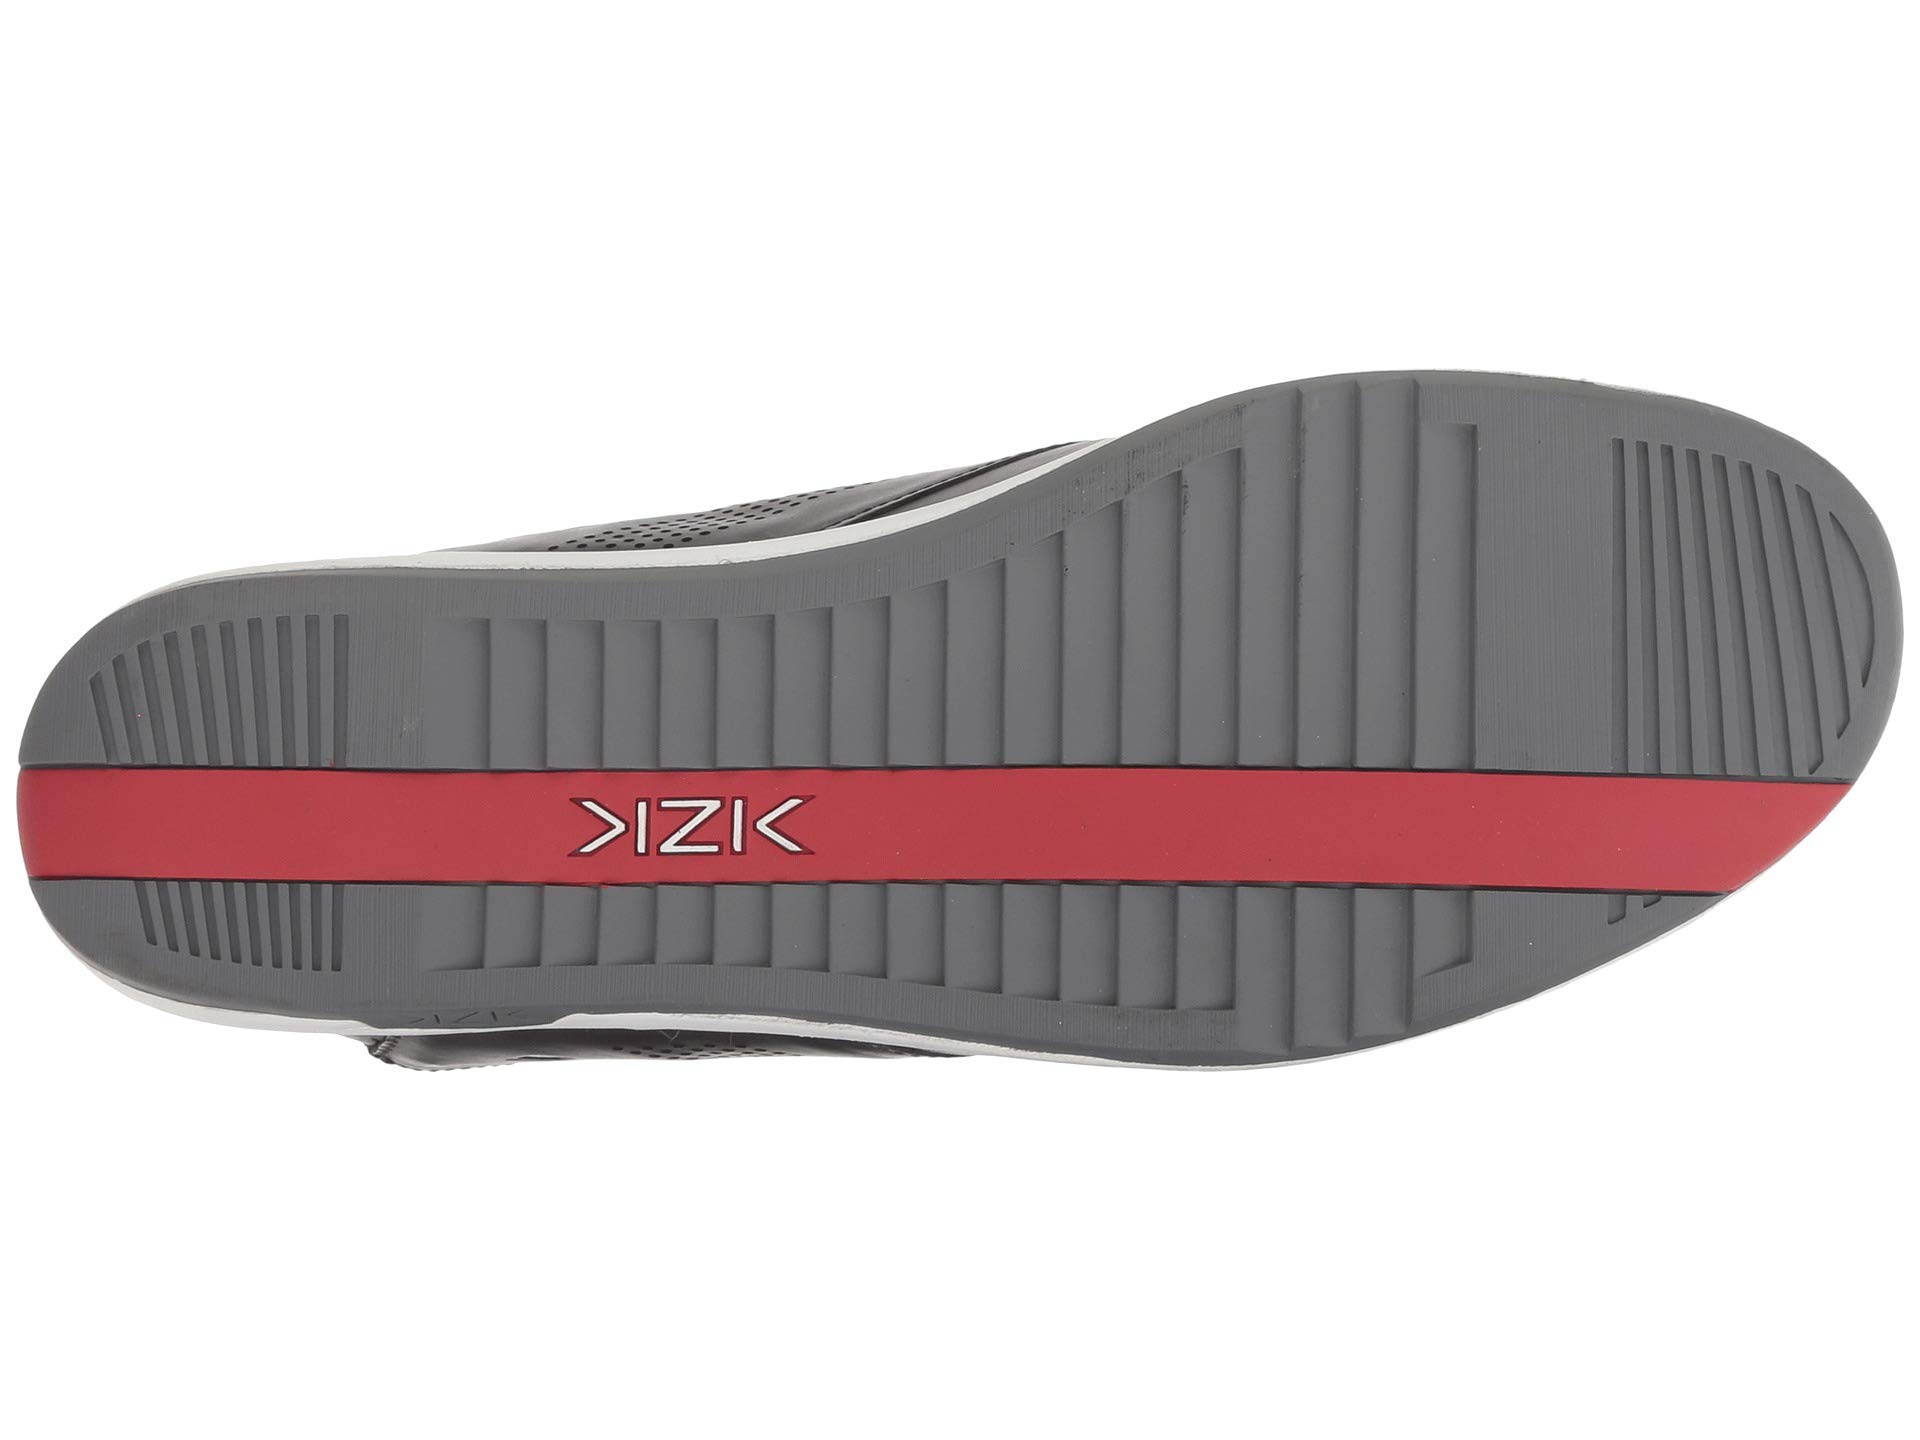quad: (407, 585, 1045, 771), (1590, 414, 1743, 790), (943, 871, 1267, 1035), (1111, 454, 1261, 787)
text: (541, 771, 841, 880)
